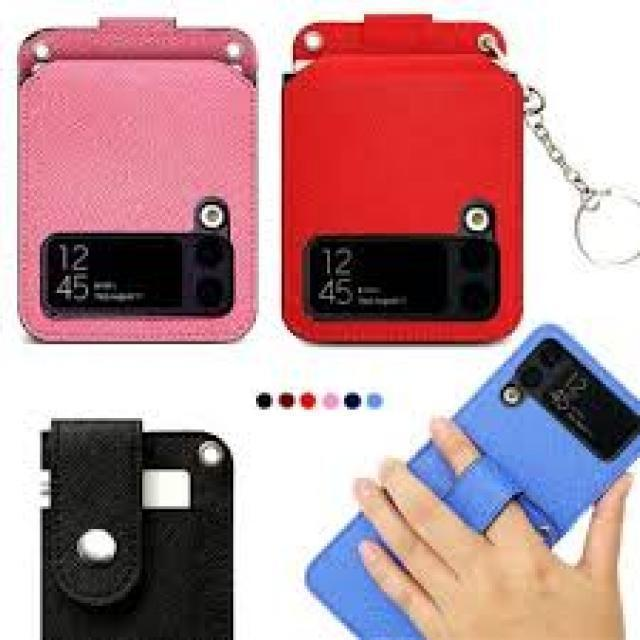lens: (449, 239, 499, 315), (180, 239, 232, 311), (518, 334, 571, 401)
phone: (308, 323, 639, 639), (282, 57, 523, 338), (23, 61, 258, 346)
